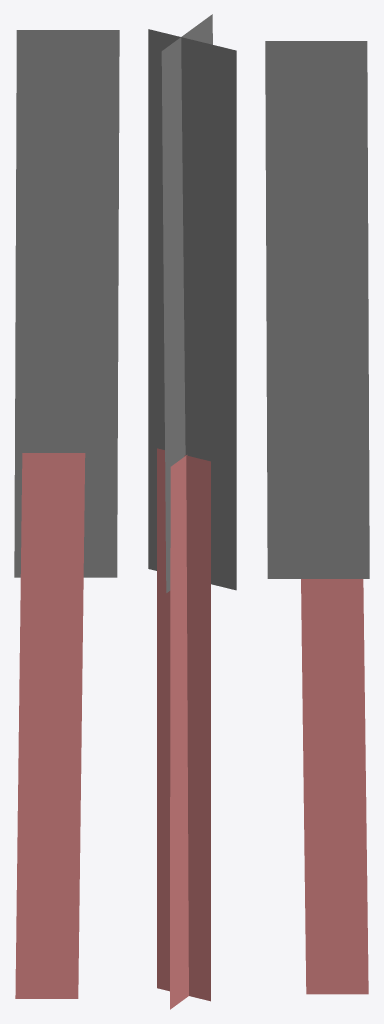
Rendered from Primitive_INDeco_Long003.gltf.
3 views of the same model, side by side, from view 1: azimuth 90°, elevation 25°; view 2: azimuth 150°, elevation 25°; view 3: azimuth 270°, elevation 25° (orthographic).
Visible parts, largest first — view 1: Primitive_INDeco_Long003; view 2: Primitive_INDeco_Long003; view 3: Primitive_INDeco_Long003.
Part boxes in pixels (<box>): Primitive_INDeco_Long003: <box>14,30,119,998</box>; Primitive_INDeco_Long003: <box>148,14,236,1009</box>; Primitive_INDeco_Long003: <box>265,41,369,994</box>.
Bounding box in the file's own units: 1.27 × 13.19 × 1.3.
